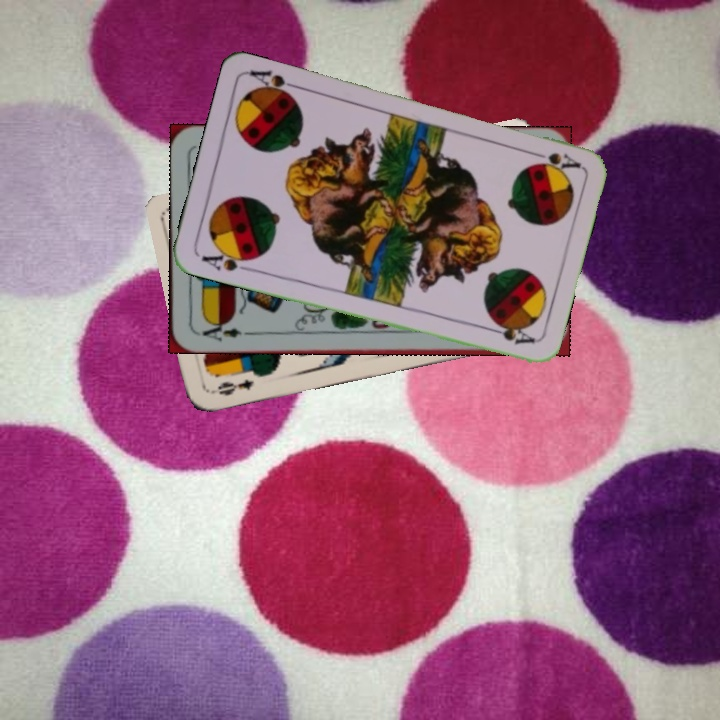EA: (194, 318, 253, 344)
EO: (207, 375, 257, 399)
SA: (197, 245, 257, 275), (524, 147, 583, 174)
